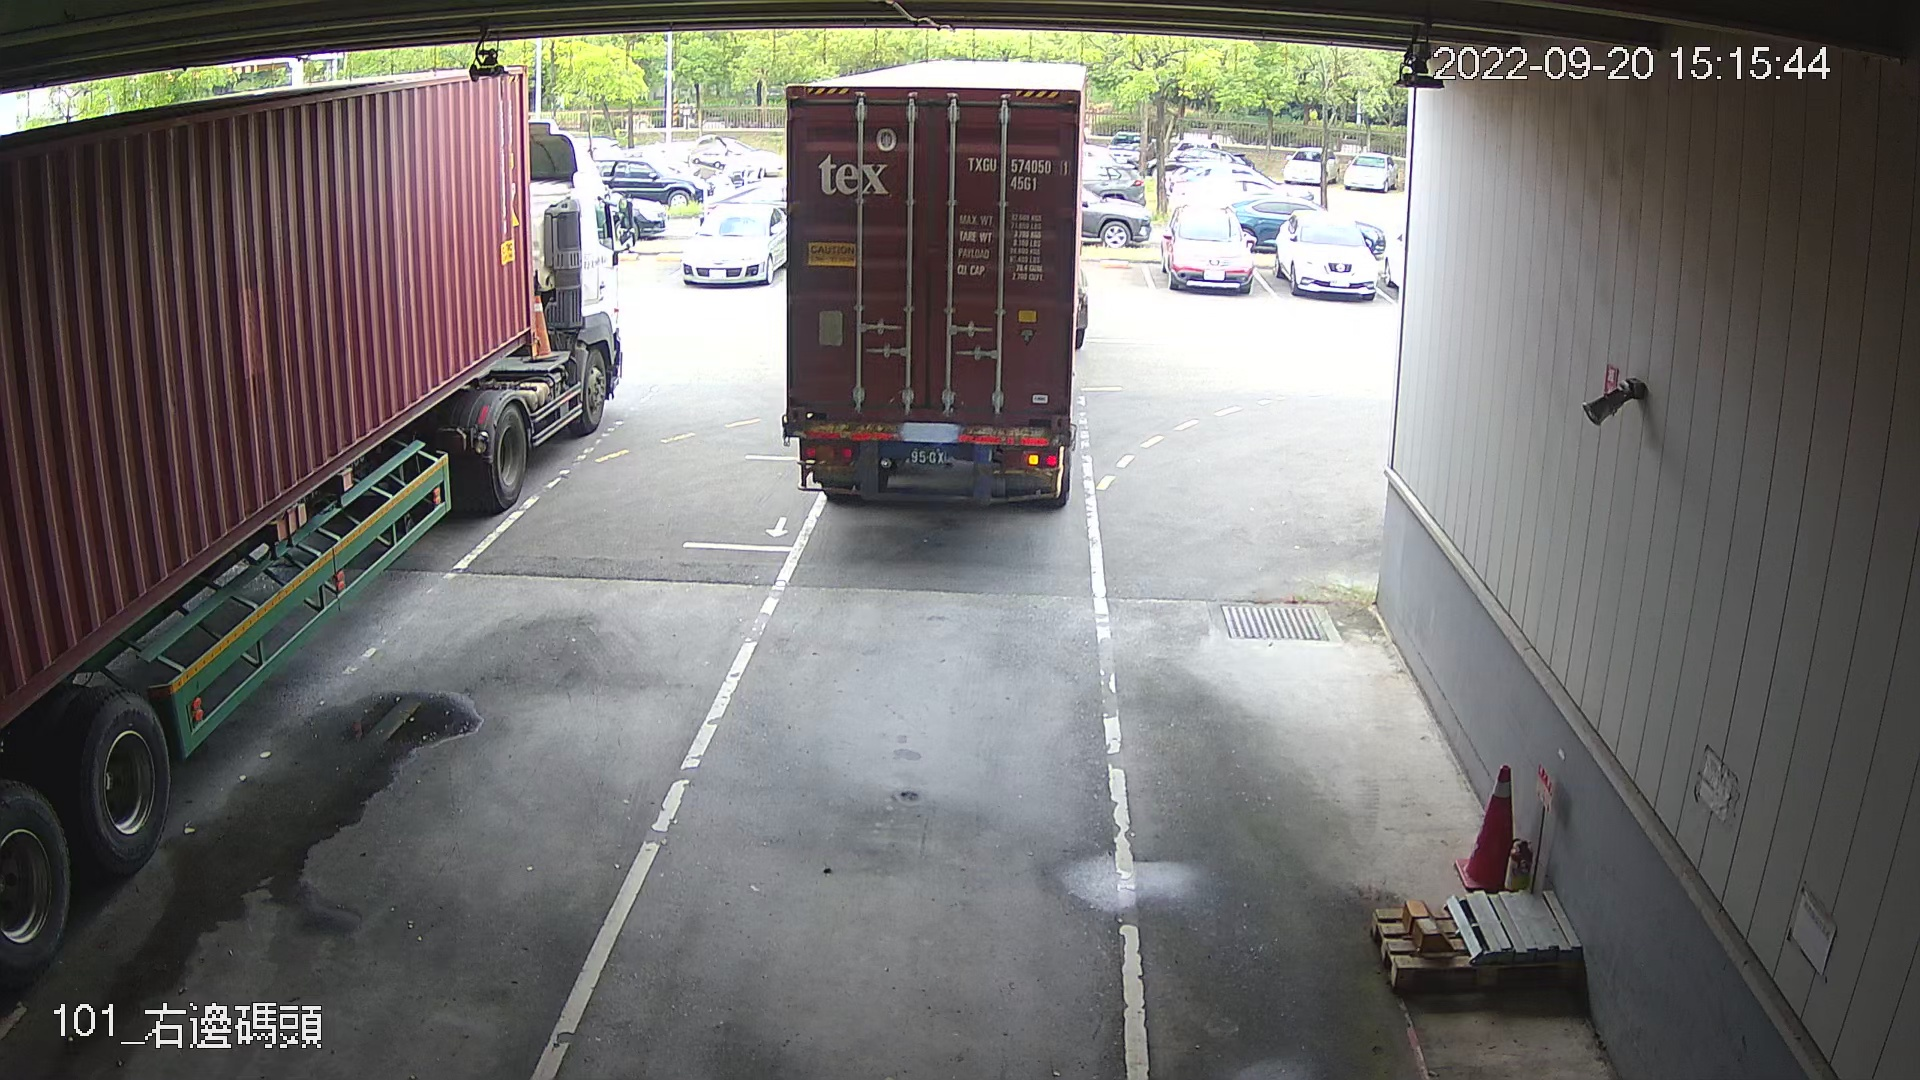container: (963, 148, 1072, 195)
